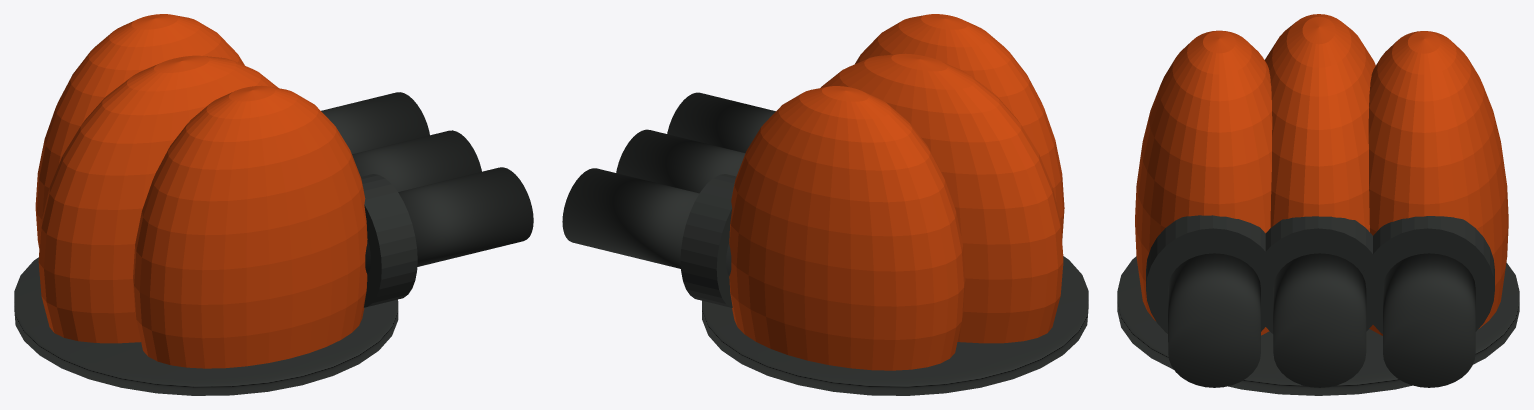
File: shotgun.obj
3 renders of one model, left to right at view 1: azimuth 30°, elevation 25°; view 2: azimuth 150°, elevation 25°; view 3: azimuth 270°, elevation 25°, orthographic. The views are drawn at different scales.
Visible parts, largest first — view 1: Magazine1, Magazine2, Gun1, Base, Magazine3, Gun2, Gun3; view 2: Magazine3, Magazine2, Gun3, Base, Magazine1, Gun2, Gun1; view 3: Magazine3, Magazine1, Magazine2, Gun3, Gun1, Gun2, Base.
Boxes of the visible parts, x1,y1,x2,y2 form: Magazine1: [133, 85, 367, 368]; Magazine2: [38, 55, 278, 343]; Gun1: [361, 167, 533, 307]; Base: [14, 257, 398, 395]; Magazine3: [35, 14, 244, 248]; Gun2: [352, 130, 481, 191]; Gun3: [321, 92, 429, 154]; Magazine3: [729, 86, 965, 370]; Magazine2: [820, 53, 1063, 343]; Gun3: [562, 168, 736, 307]; Base: [702, 256, 1088, 395]; Magazine1: [855, 14, 1064, 240]; Gun2: [616, 129, 745, 193]; Gun1: [667, 92, 775, 153]; Magazine3: [1368, 31, 1508, 335]; Magazine1: [1135, 30, 1272, 335]; Magazine2: [1265, 14, 1375, 231]; Gun3: [1363, 216, 1494, 387]; Gun1: [1146, 215, 1265, 387]; Gun2: [1254, 216, 1372, 387]; Base: [1117, 256, 1519, 395].
Size of the model in its own units: 2.53 by 1.49 by 2.
